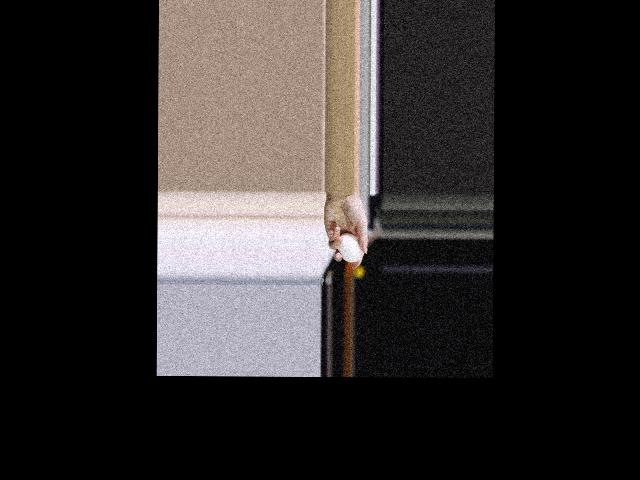egg: (337, 233, 362, 263)
